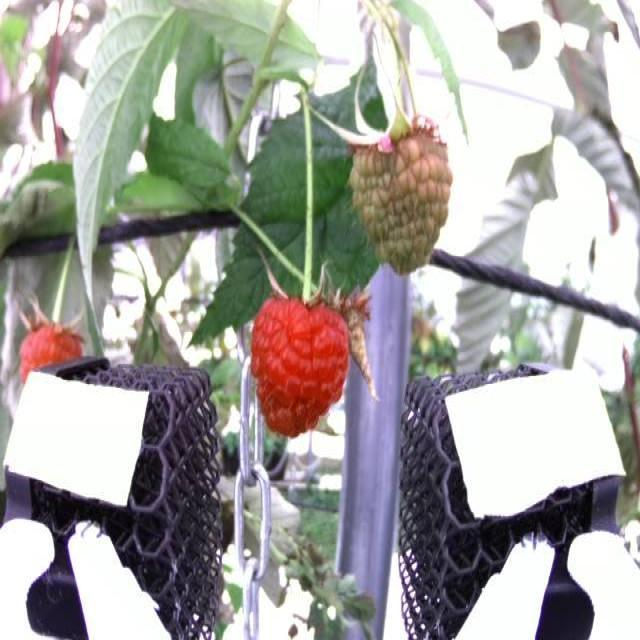Riped berries: (248, 291, 353, 437), (14, 299, 86, 380)
